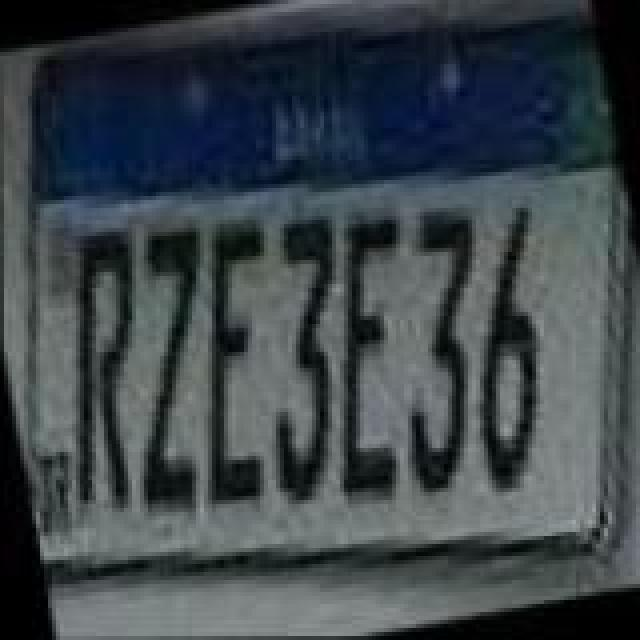3: (366, 198, 518, 498), (232, 206, 380, 510)
6: (436, 198, 576, 494)
E: (158, 206, 310, 514), (294, 208, 446, 508)
R: (32, 220, 172, 516)
Z: (94, 218, 246, 522)
